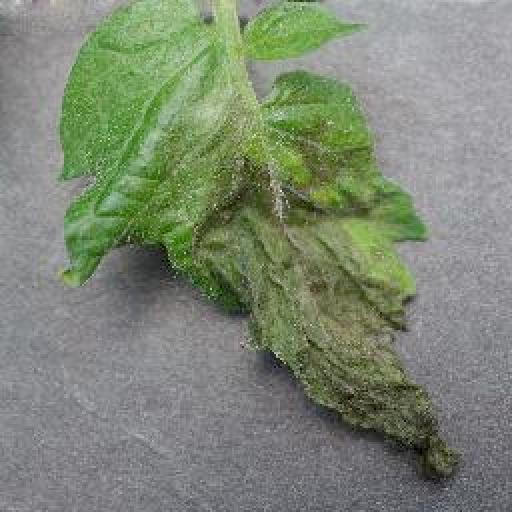disease_tomato: (58, 0, 464, 480)
